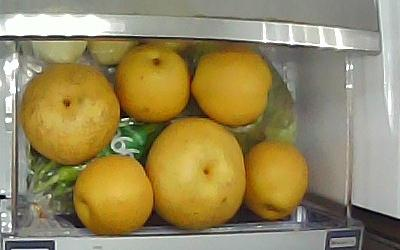pear: (144, 116, 247, 230), (20, 62, 119, 166), (192, 47, 274, 127), (75, 155, 154, 235), (115, 43, 189, 123), (244, 139, 309, 220)
